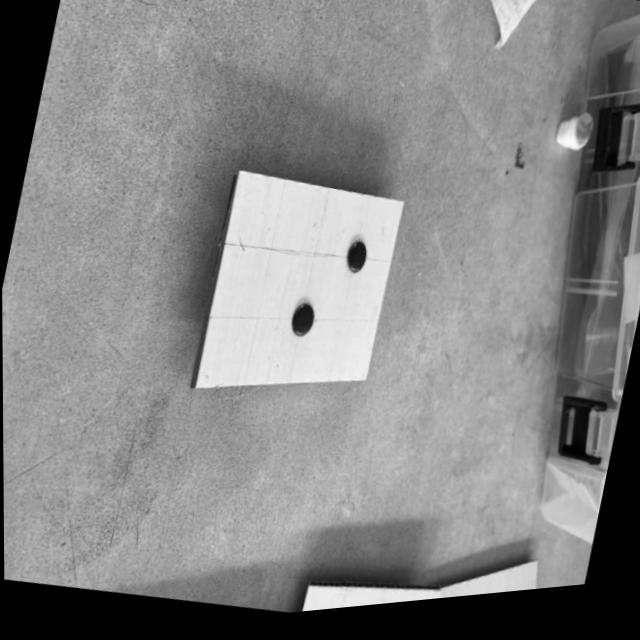braiile: (196, 181, 402, 390)
